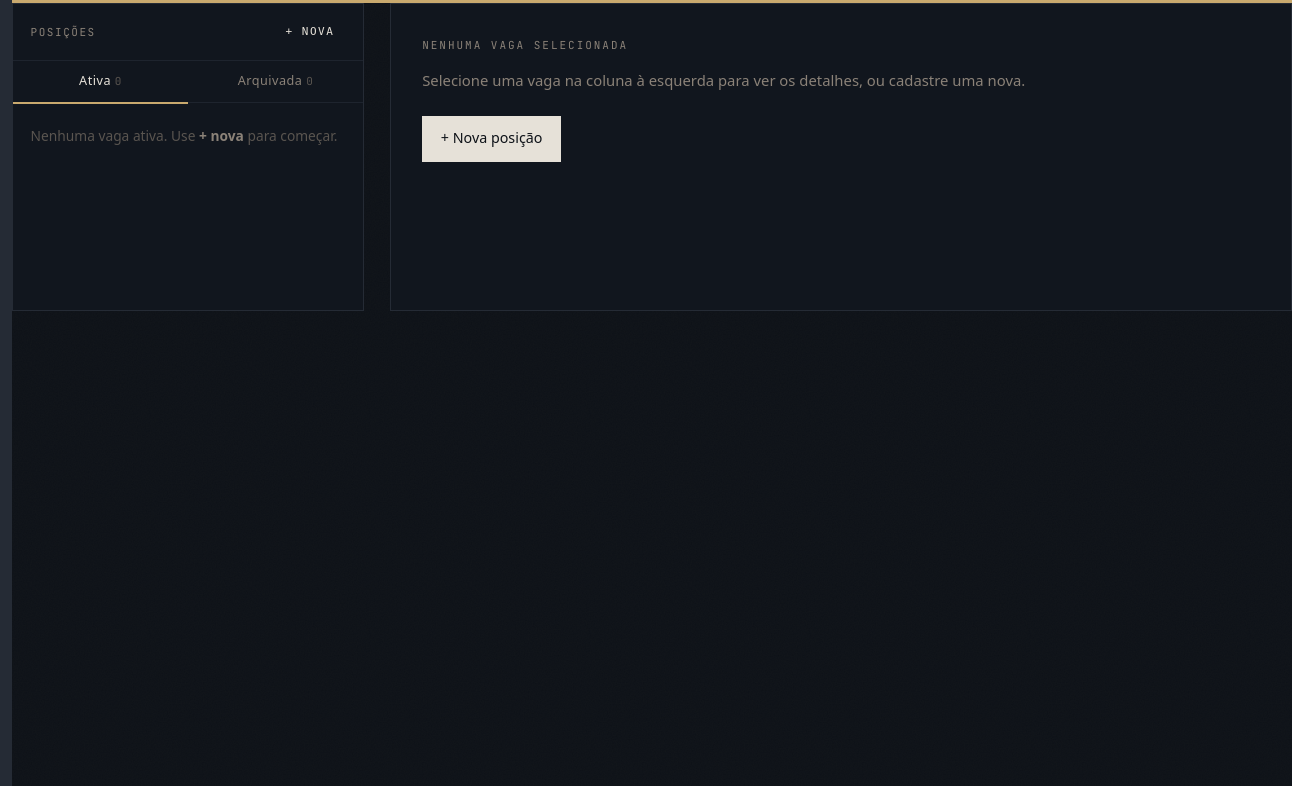
Test: MatchCriteriaEditor — slider + priorities (PF.8/PF.9) › test ratio: slider e input numérico ficam sincronizados
This screenshot has width=1292, height=786.
Click the button "+ Nova posição" at x=492, y=139, box x1=422 y1=116 x2=561 y2=162
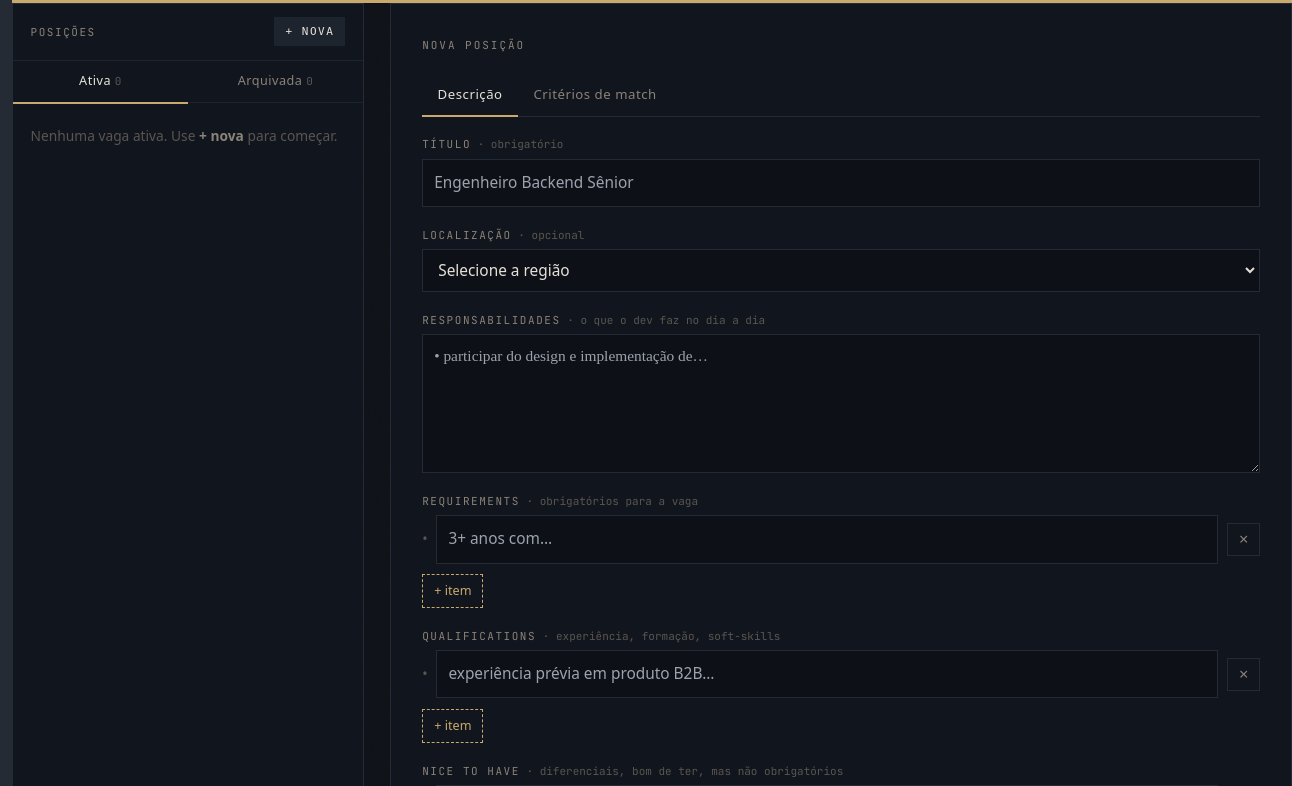
Click the tab "Critérios de match" at x=595, y=95, box x1=518 y1=73 x2=672 y2=117
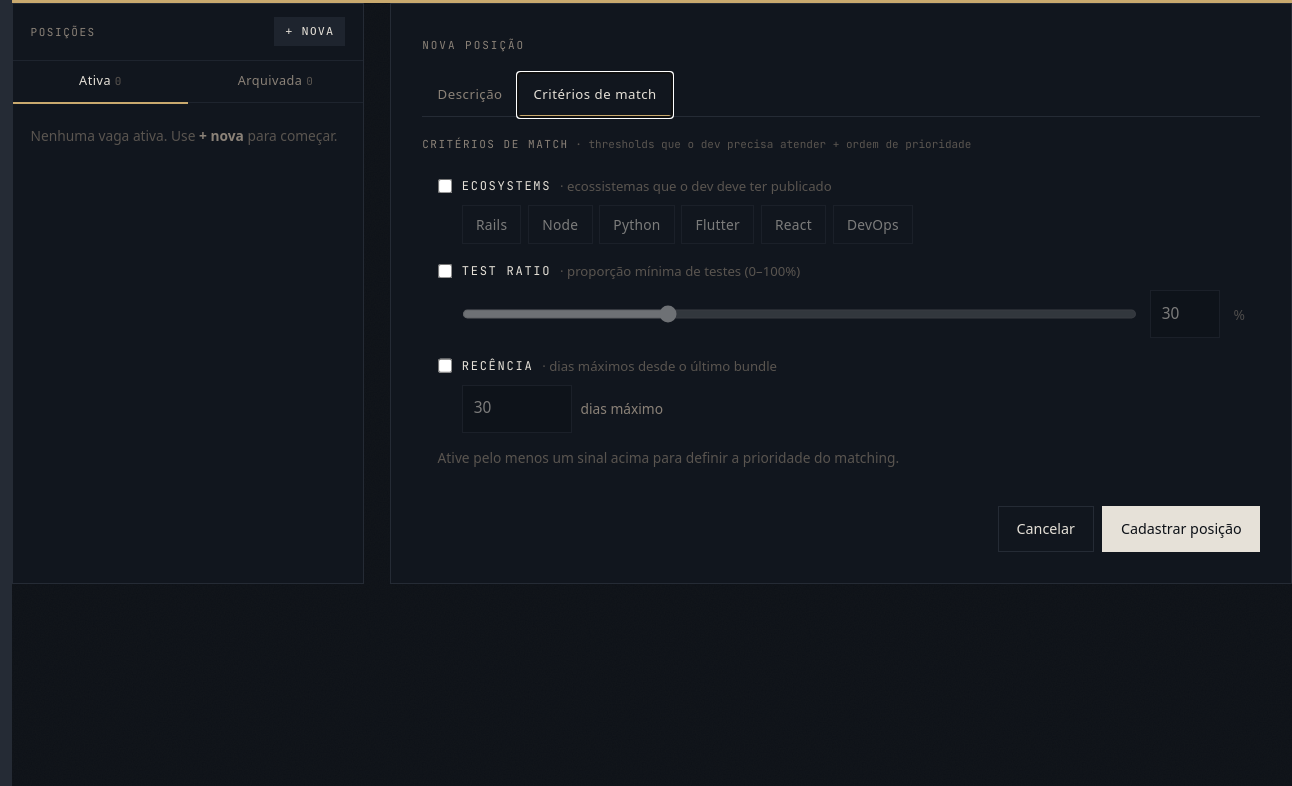
Click the checkbox labelled "Test ratio · proporção mínima de testes (0–100%)" at x=445, y=271, box x1=438 y1=264 x2=453 y2=279
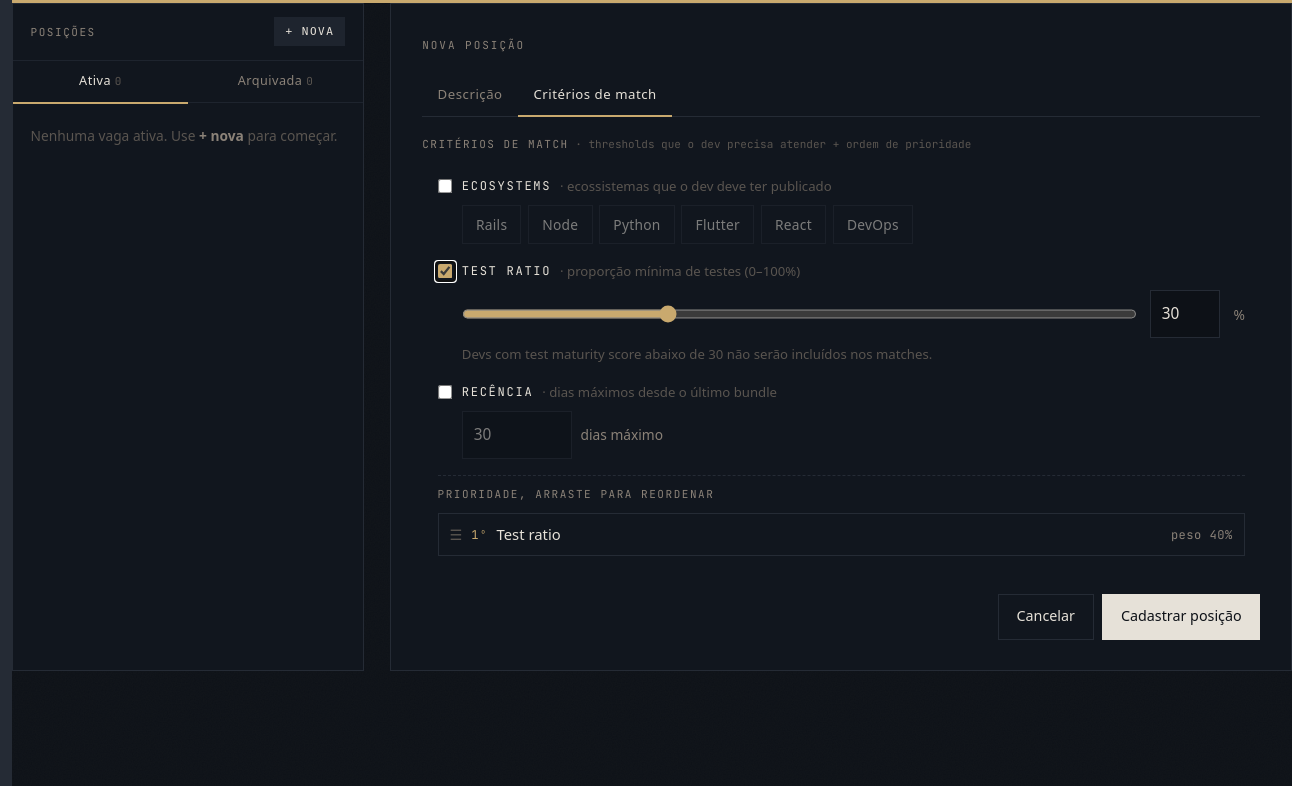
Check: the slider holds "30", box x1=462 y1=306 x2=1137 y2=323
Replace the text in the 1st number field with "55" at x=1185, y=314, box x1=1150 y1=290 x2=1220 y2=338
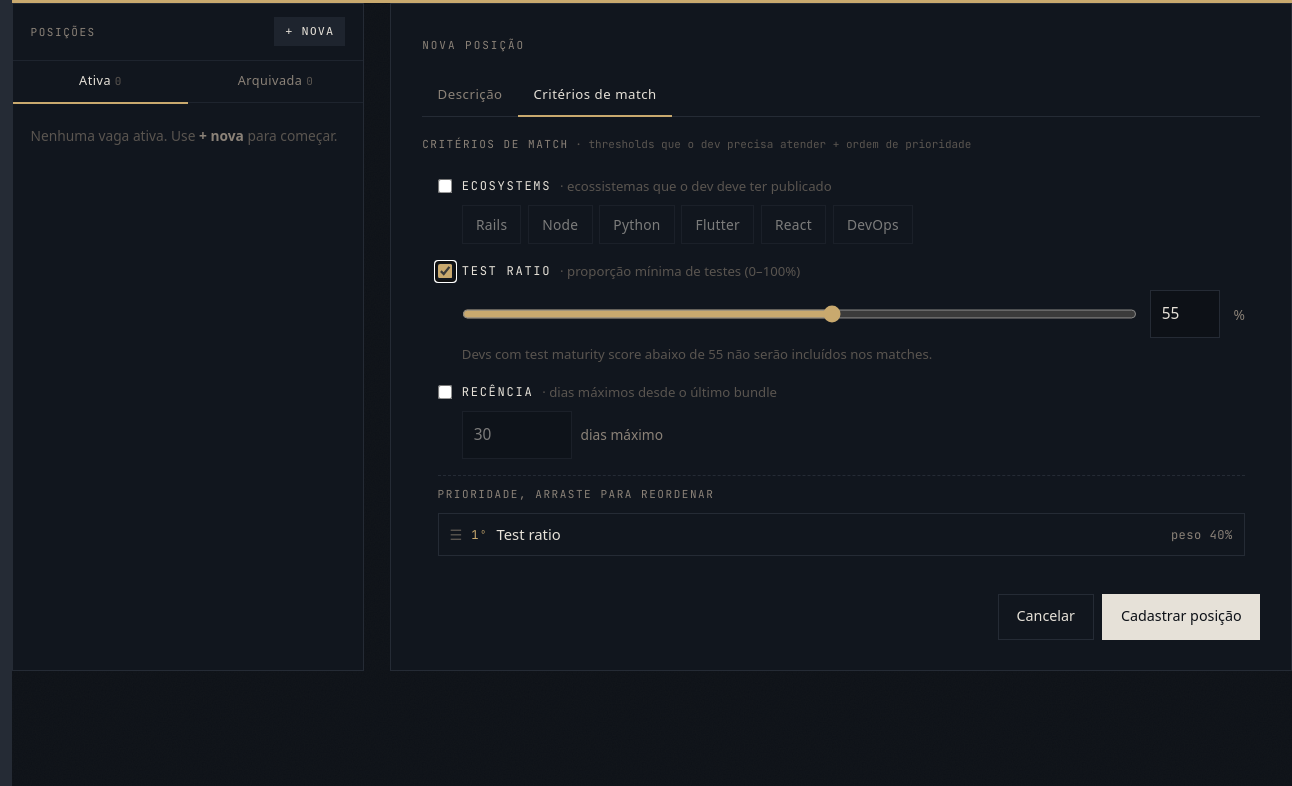
Check: the slider holds "55"
Set the slider to "70" at x=931, y=314, box x1=462 y1=306 x2=1137 y2=323
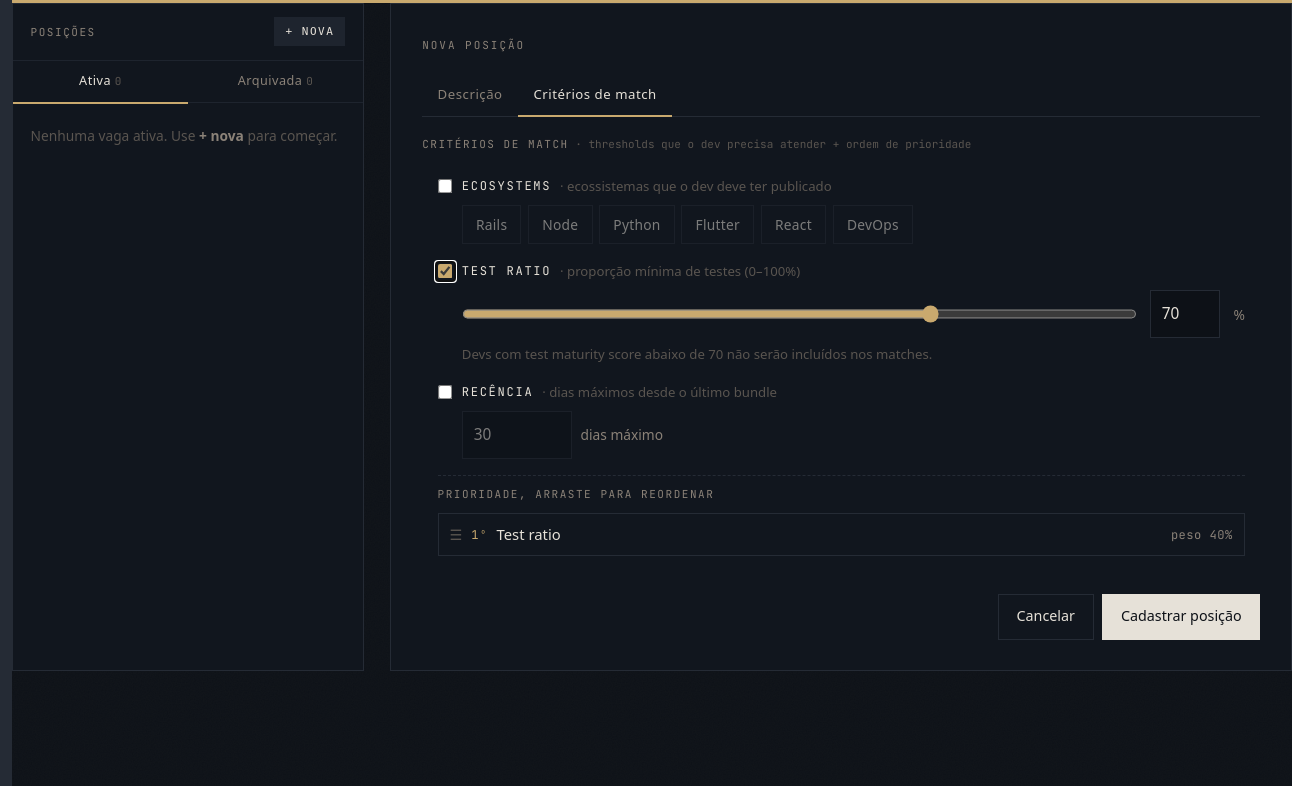
Check: the 1st number field holds "70", box x1=1150 y1=290 x2=1220 y2=338
